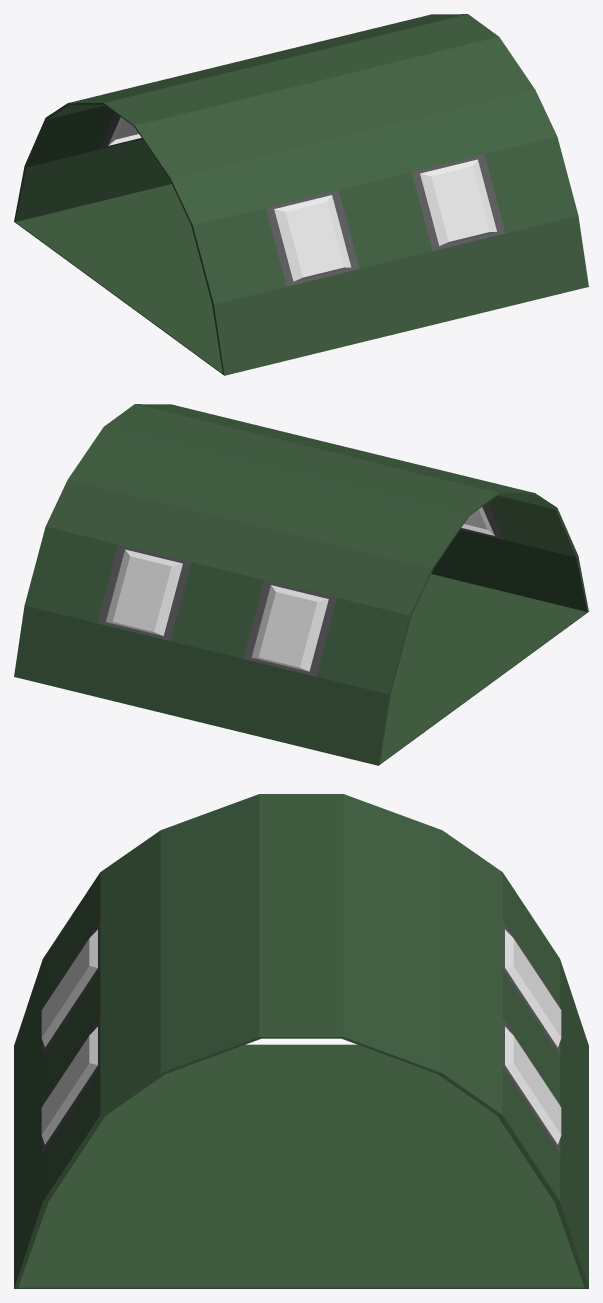
The picture shows the model from 3 angles, top to bottom: view 1: azimuth 30°, elevation 25°; view 2: azimuth 150°, elevation 25°; view 3: azimuth 270°, elevation 25°; orthographic projection. The views are drawn at different scales.
Visible parts, largest first — view 1: Cube; view 2: Cube; view 3: Cube.
Part boxes in pixels (x1=…): Cube: x1=14, y1=14, x2=588, y2=375; Cube: x1=14, y1=404, x2=588, y2=765; Cube: x1=14, y1=794, x2=588, y2=1288.
Size of the model in its own units: 6 by 6 by 2.9.
